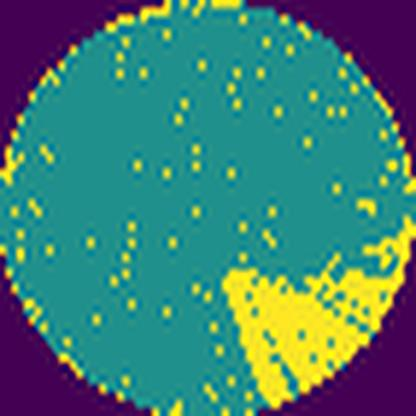Edge-Loc: (221, 215, 415, 416)
